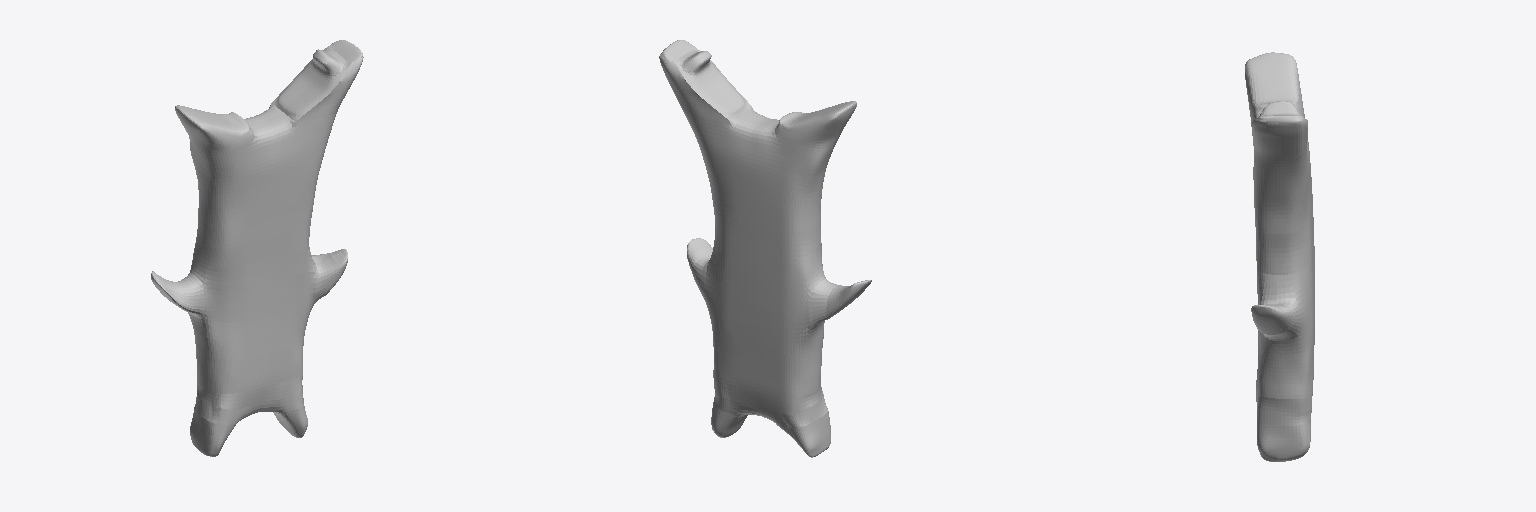
The model's file is korok16.obj.
3 renders of one model, left to right at view 1: azimuth 30°, elevation 25°; view 2: azimuth 150°, elevation 25°; view 3: azimuth 270°, elevation 25°, orthographic.
Parts seen in each view (by area): view 1: Plane; view 2: Plane; view 3: Plane.
Boxes of the visible parts, <box> form: Plane: <box>151,40,363,456</box>; Plane: <box>659,40,871,457</box>; Plane: <box>1245,52,1314,461</box>.
Size of the model in its own units: 1.02 by 1.82 by 0.312.